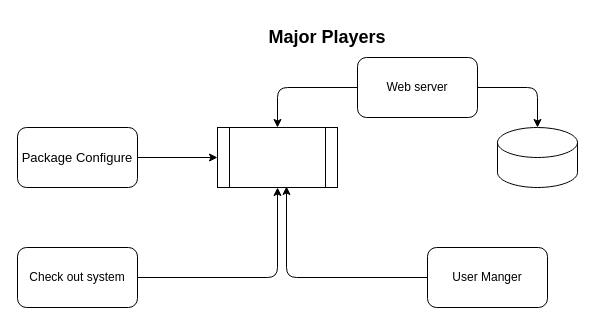
Image size: 595x325. Some labels were removed from this diagram. Here are the shapes that lost their labels. From the top down, the centre of each, then its label:
[277,157]: Kafka-E Bus
[537,157]: Items DB
